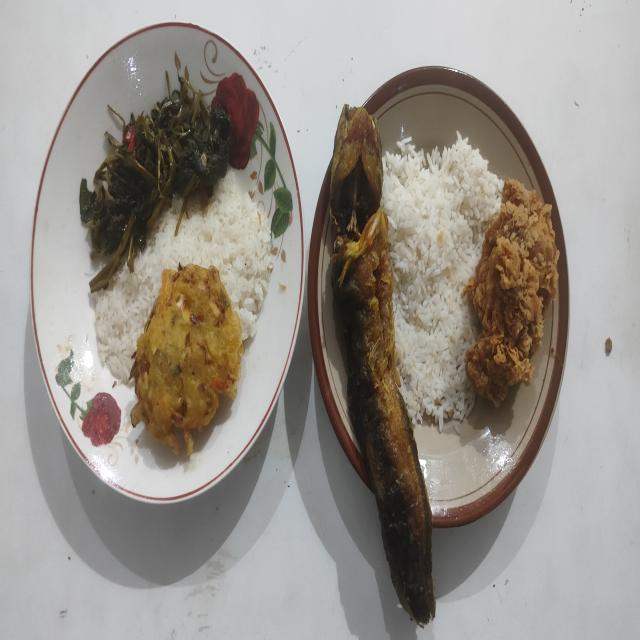nasi_putih: (96, 170, 276, 380), (381, 136, 504, 432)
tumis_kangkung: (80, 67, 231, 292)
